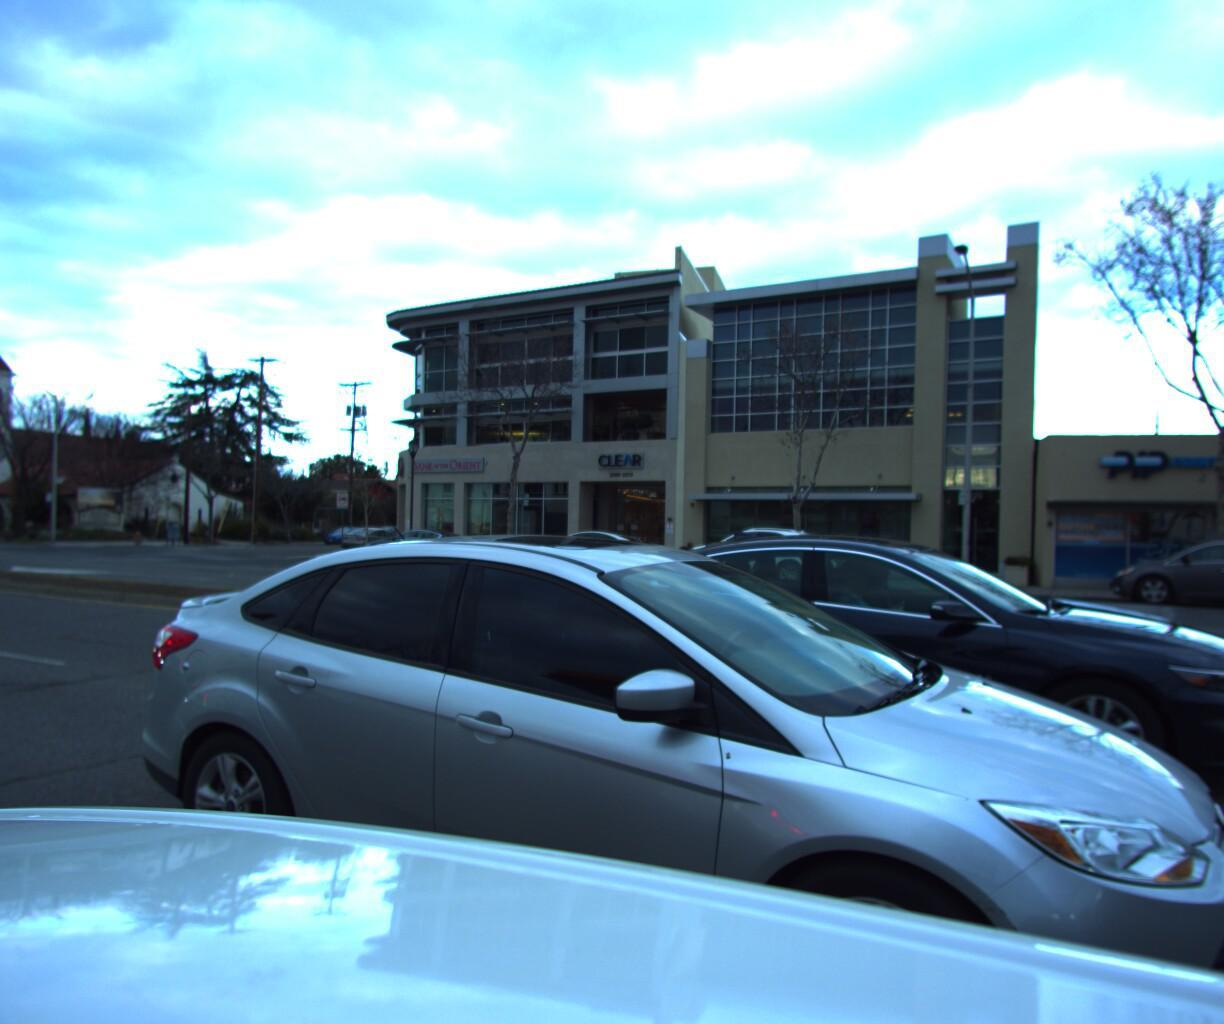car: (75, 514, 1224, 1024), (538, 524, 1224, 829), (667, 517, 843, 585), (1100, 524, 1224, 616), (511, 521, 656, 574), (350, 521, 482, 566), (331, 519, 410, 550), (320, 520, 374, 541)
